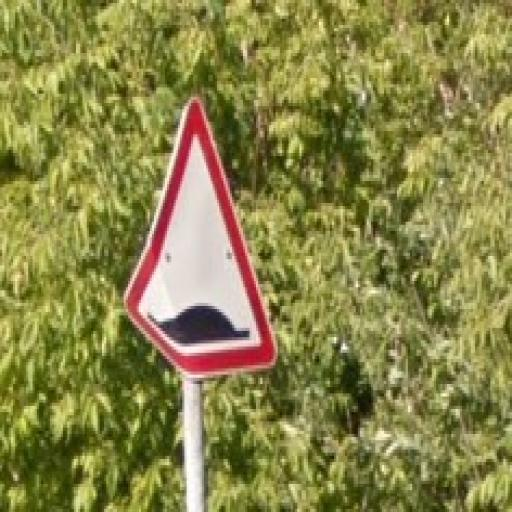traffic_sign: (122, 98, 281, 379)
